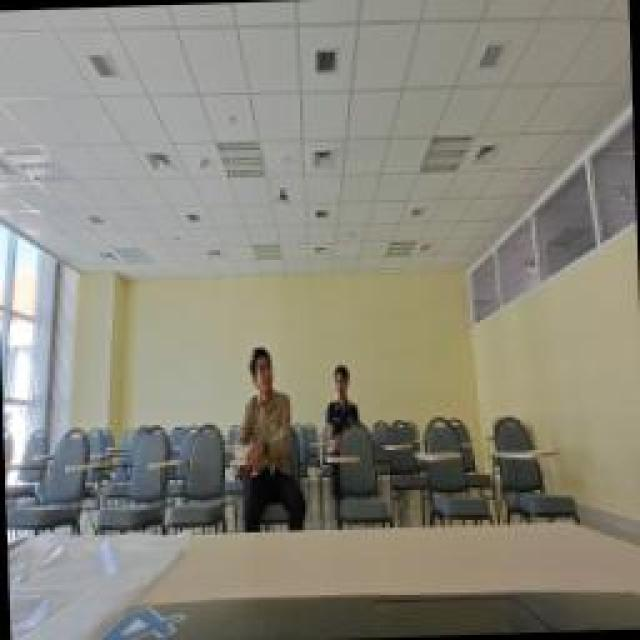study: (235, 342, 307, 530), (322, 357, 360, 445)
